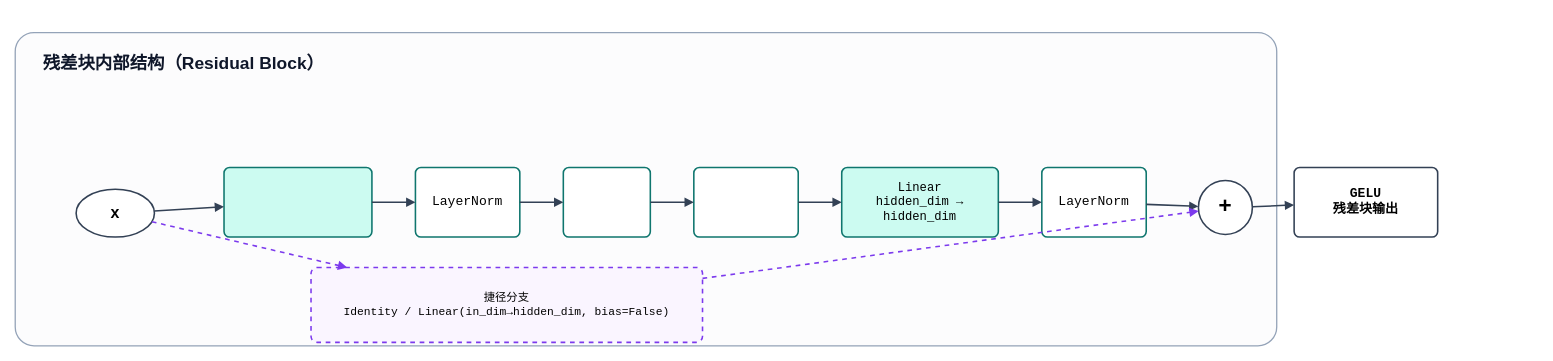
Image size: 1553x361. Some labels were removed from this diagram. The centre of each missing label's shape, as x and y in pixels:
"Dropout" belongs at [746,201].
"GELU" belongs at [606,201].
"Linear in_dim → hidden_dim" belongs at [297,201].
